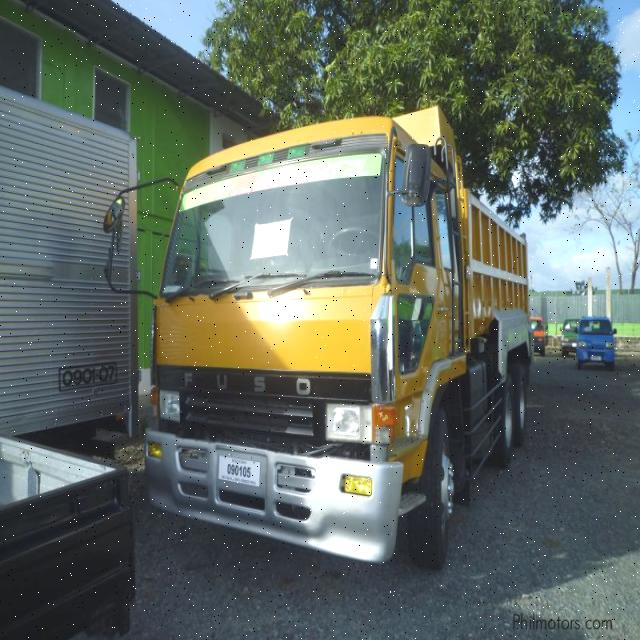truck: (96, 100, 534, 566)
